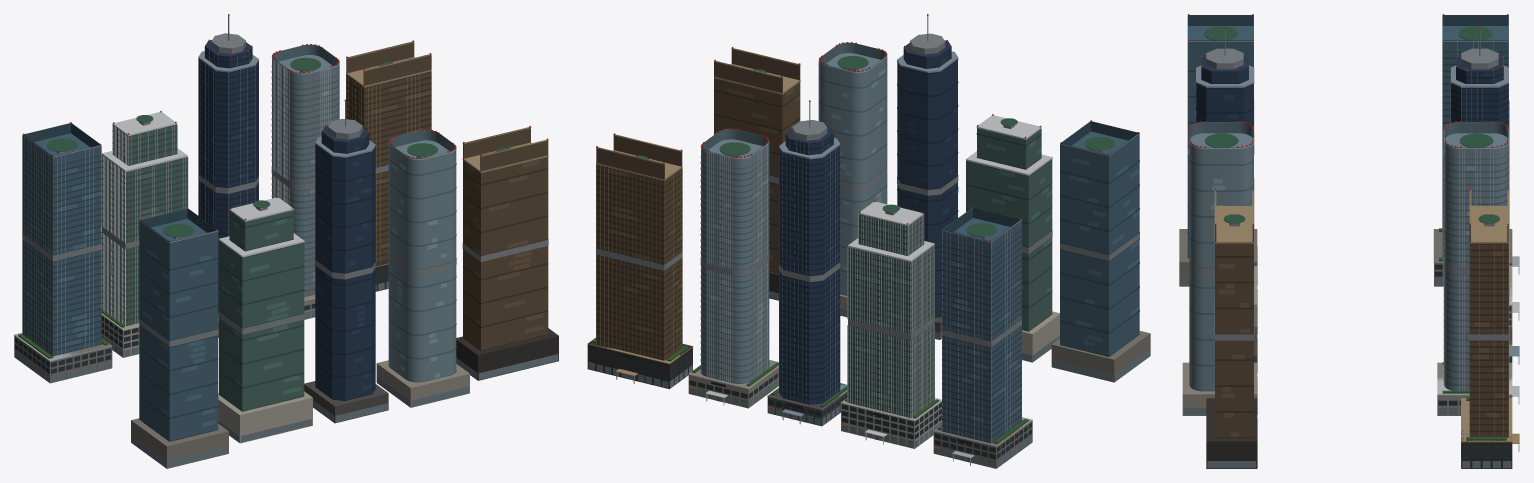
Rendered from tower.glb.
The picture shows the model from 3 angles, left to right: view 1: azimuth 30°, elevation 25°; view 2: azimuth 150°, elevation 25°; view 3: azimuth 270°, elevation 25°; orthographic projection. The views are drawn at different scales.
Parts seen in each view (by area): view 1: tower_e_lo_mesh, tower_a_body, tower_a_lo_mesh, tower_b_lo_mesh, tower_d_lo_mesh, tower_c_lo_mesh, tower_b_body, tower_c_body, tower_d_body, tower_e_body; view 2: tower_e_body, tower_a_lo_mesh, tower_a_body, tower_b_body, tower_d_body, tower_c_body, tower_b_lo_mesh, tower_c_lo_mesh, tower_d_lo_mesh, tower_e_lo_mesh; view 3: tower_d_body, tower_e_body, tower_e_lo_mesh, tower_d_lo_mesh, tower_a_lo_mesh, tower_c_body, tower_a_body, tower_c_lo_mesh, tower_b_body.
Boxes of the visible parts, box(x1,y1,x2,y2) form: tower_e_lo_mesh: box(456, 126, 558, 380); tower_a_body: box(14, 122, 112, 383); tower_a_lo_mesh: box(131, 207, 228, 468); tower_b_lo_mesh: box(218, 196, 312, 443); tower_d_lo_mesh: box(376, 129, 469, 407); tower_c_lo_mesh: box(304, 99, 388, 423); tower_b_body: box(101, 111, 188, 357); tower_c_body: box(198, 14, 258, 337); tower_d_body: box(271, 44, 339, 319); tower_e_body: box(346, 40, 431, 291); tower_e_body: box(587, 133, 693, 388); tower_a_lo_mesh: box(1051, 120, 1150, 382); tower_a_body: box(933, 206, 1032, 468); tower_b_body: box(841, 200, 941, 448); tower_d_body: box(688, 128, 778, 408); tower_c_body: box(767, 100, 847, 426); tower_b_lo_mesh: box(966, 114, 1059, 362); tower_c_lo_mesh: box(897, 14, 958, 339); tower_d_lo_mesh: box(818, 42, 887, 317); tower_e_lo_mesh: box(714, 47, 800, 300); tower_d_body: box(1437, 121, 1519, 415); tower_e_body: box(1461, 188, 1519, 468); tower_e_lo_mesh: box(1206, 188, 1257, 468); tower_d_lo_mesh: box(1182, 121, 1257, 415); tower_a_lo_mesh: box(1179, 14, 1257, 286); tower_c_body: box(1450, 26, 1519, 364); tower_a_body: box(1433, 14, 1519, 286); tower_c_lo_mesh: box(1196, 26, 1257, 372); tower_b_body: box(1509, 100, 1519, 326).
Size of the model in its own units: 300 by 216 by 201.
